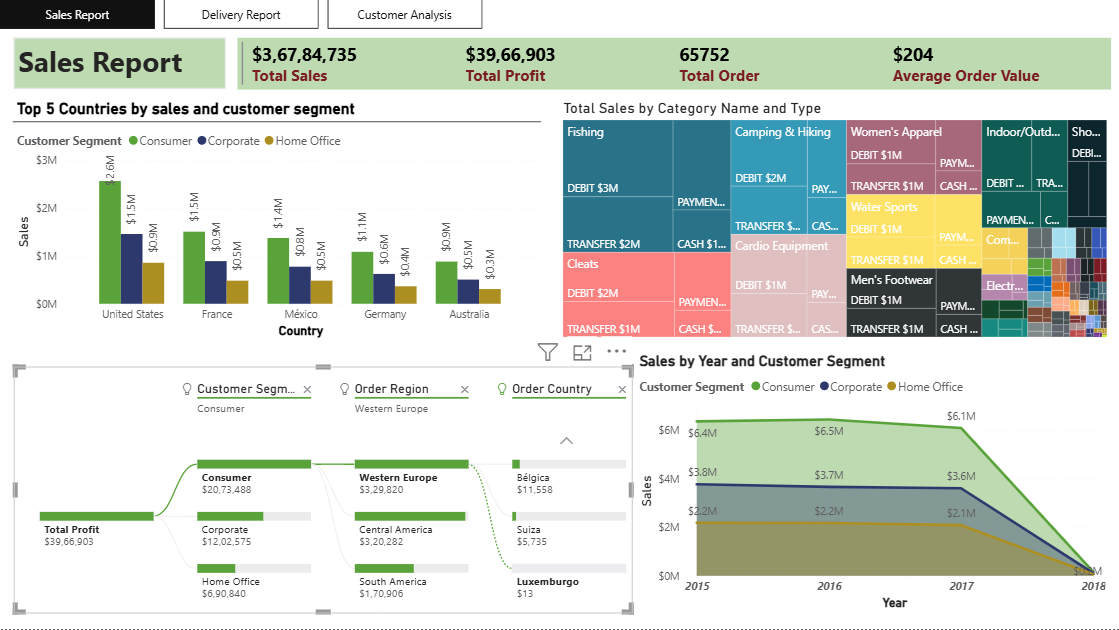

This screenshot's page, from the dashboard's own definition file:
{"tool":"powerbi","page":{"name":"Sales Report","canvas":[1280,720],"ordinal":0},"visuals":[{"type":"multiRowCard","fields":{"Values":["Key Metrics.Total Sales","Key Metrics.Total Profit","Key Metrics.Total Order","Key Metrics.Average Order Value"]},"box":[271,44,998,59],"z":0},{"type":"clusteredColumnChart","title":"Top 5 Countries by sales and customer segment","fields":{"Y":["Key Metrics.Total Sales"],"Series":["SupplyChainDataset.Customer Segment"],"Category":["SupplyChainDataset.Order Country"]},"box":[14.3,114.3,604.3,277.1],"z":1000},{"type":"areaChart","fields":{"Category":["SupplyChainDataset.Order Year"],"Y":["Key Metrics.Total Sales"],"Series":["SupplyChainDataset.Customer Segment"]},"box":[725.7,402.9,542.9,300],"z":2000},{"type":"treemap","fields":{"Group":["SupplyChainDataset.Category Name"],"Values":["Key Metrics.Total Sales"],"Details":["SupplyChainDataset.Type"]},"box":[638.6,114.3,631.4,277.1],"z":3000},{"type":"decompositionTreeVisual","fields":{"Analyze":["Key Metrics.Total Profit"],"ExplainBy":["SupplyChainDataset.Customer Segment","SupplyChainDataset.Order Region","SupplyChainDataset.Order Country"]},"box":[15.7,420,707.1,282.9],"z":4000},{"type":"textbox","box":[15.7,44.3,241.4,58.6],"z":5000},{"type":"pageNavigator","box":[0,0,551.4,34.3],"z":6000}]}

Visuals, with their boxes on the page's 1280x720 design canvas (x1, y1, x2, y2). These are canvas units, not pixel positions in the 1119x630 screenshot, which may show the page scaled, cropped or inside an application window:
multiRowCard - Key Metrics.Total Sales x Key Metrics.Total Profit: l=271, t=44, r=1269, b=103
"Top 5 Countries by sales and customer segment" clusteredColumnChart: l=14, t=114, r=619, b=391
areaChart - SupplyChainDataset.Order Year x Key Metrics.Total Sales: l=726, t=403, r=1269, b=703
treemap - SupplyChainDataset.Category Name x Key Metrics.Total Sales: l=639, t=114, r=1270, b=391
decompositionTreeVisual - Key Metrics.Total Profit x SupplyChainDataset.Customer Segment: l=16, t=420, r=723, b=703
textbox: l=16, t=44, r=257, b=103
pageNavigator: l=0, t=0, r=551, b=34
